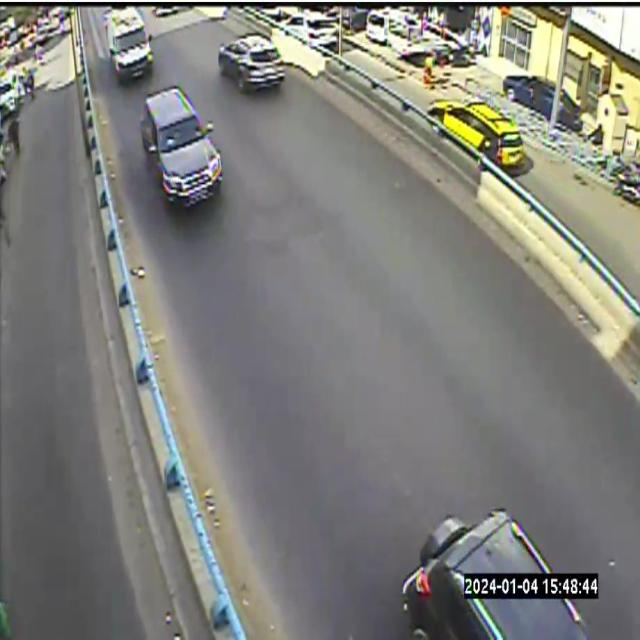car: (402, 508, 599, 639), (140, 87, 223, 204), (428, 100, 525, 168), (218, 34, 285, 91), (106, 6, 152, 82), (285, 11, 337, 46)
